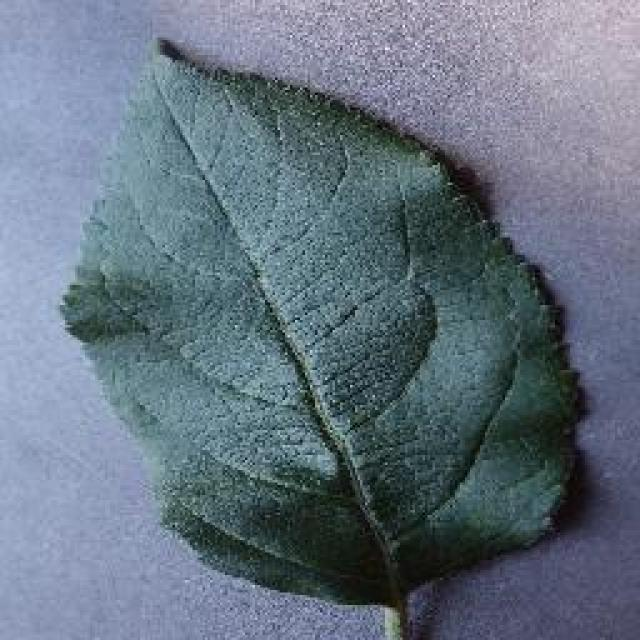apple healthy: (57, 32, 585, 638)
